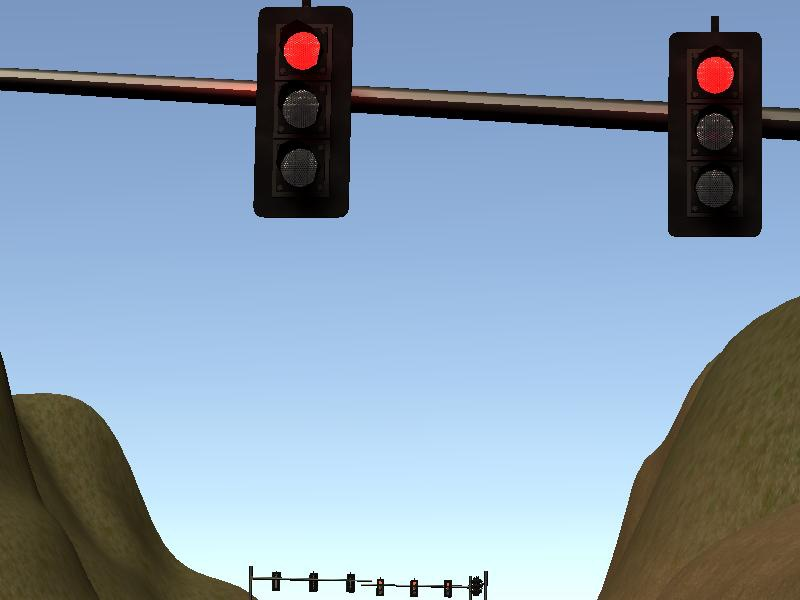Red: (252, 2, 352, 220), (665, 29, 765, 247), (408, 577, 421, 600), (442, 578, 453, 600), (375, 575, 386, 596)
